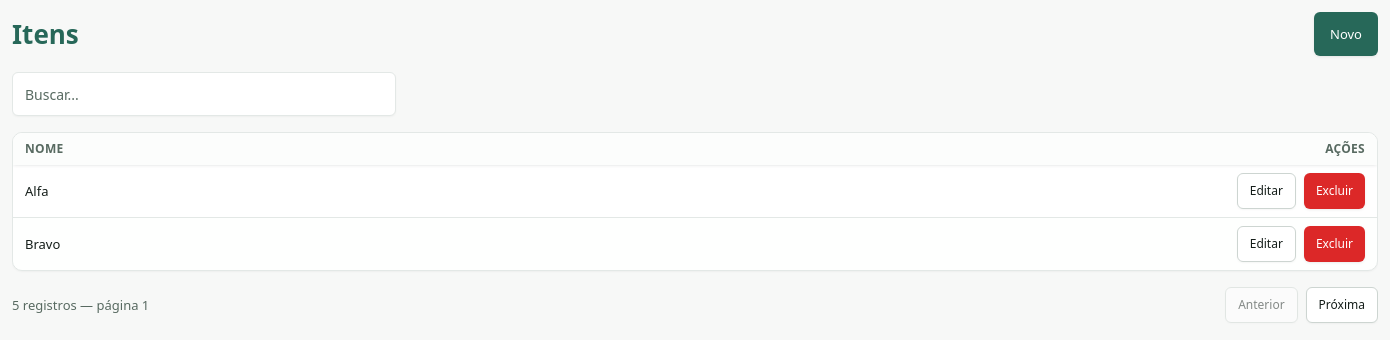
Test: CrudPage — debounce da busca › teclas rápidas coalescem em UM fetch com o termo final, só após o atraso
Check: the text "Alfa" is shown, box [13,165,410,218]
Type "a" into the field with placeholder "Buscar..." at (204, 94), box [12,72,396,116]
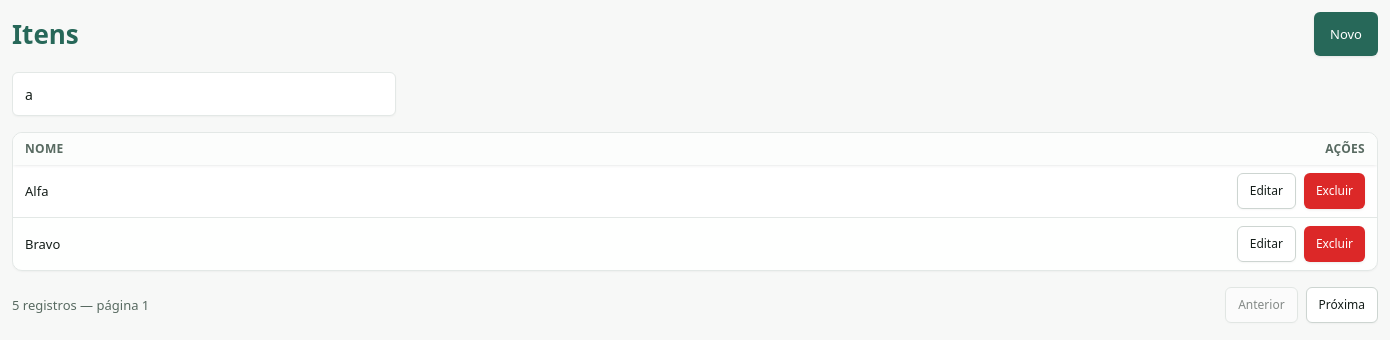
Replace the text in the field with placeholder "Buscar..." with "al" at (204, 94), box [12,72,396,116]
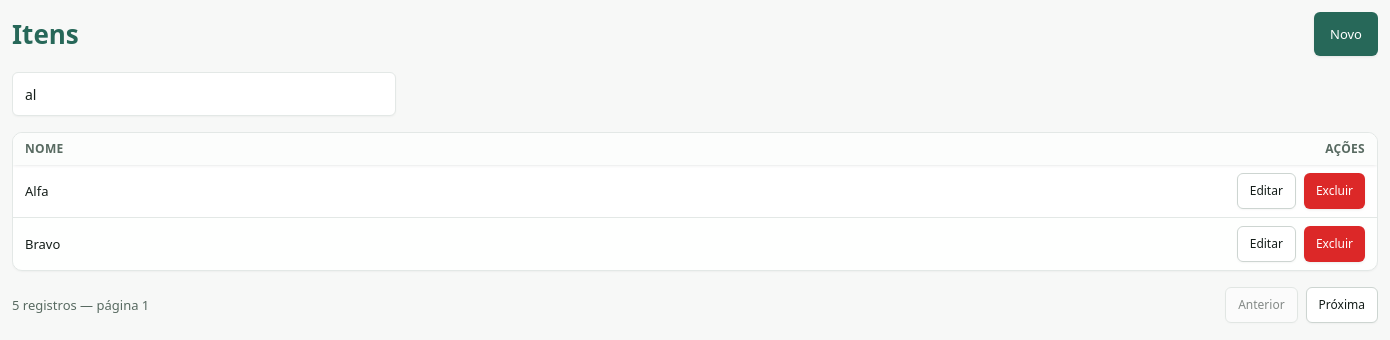
Replace the text in the field with placeholder "Buscar..." with "alf" at (204, 94), box [12,72,396,116]
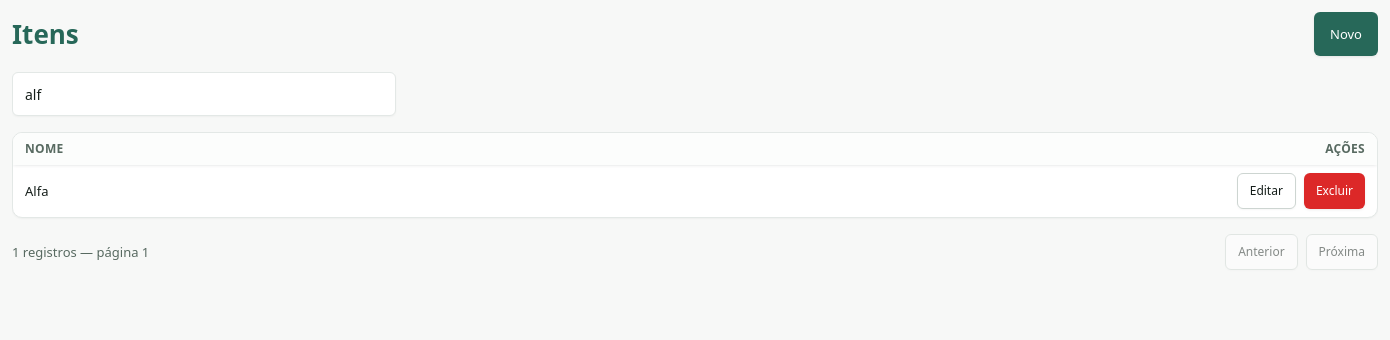
Check: the text "Alfa" is shown, box [13,165,410,217]
Check: the text "Bravo" is gone
